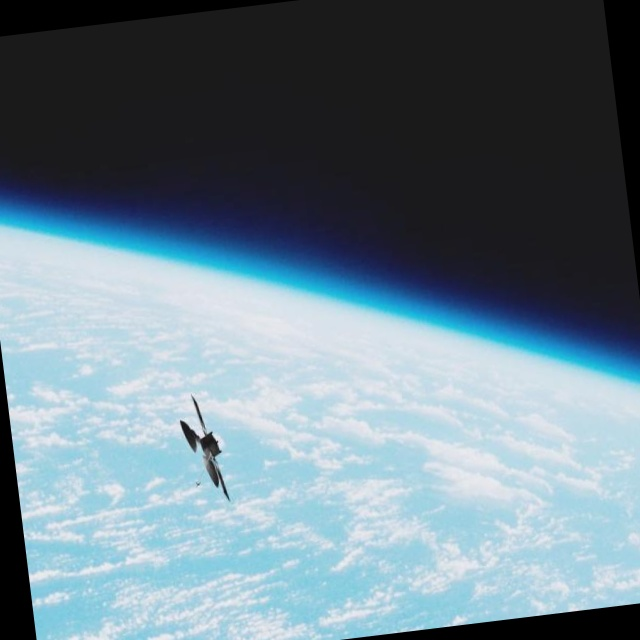satellite: (170, 389, 243, 506)
